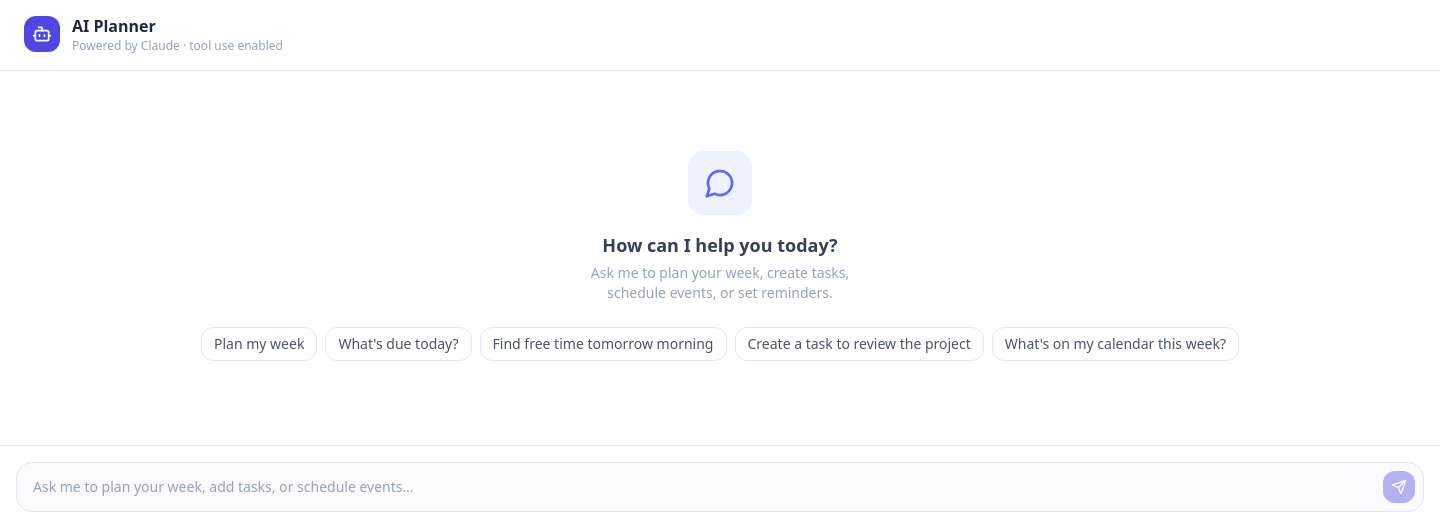
ChatPanel › shows confirmation buttons on confirmation_required event
Type "Delete my task" into the text box with placeholder "Ask me to plan your week, add tasks, or schedule events…" at [700, 487], box [25,471,1375,503]
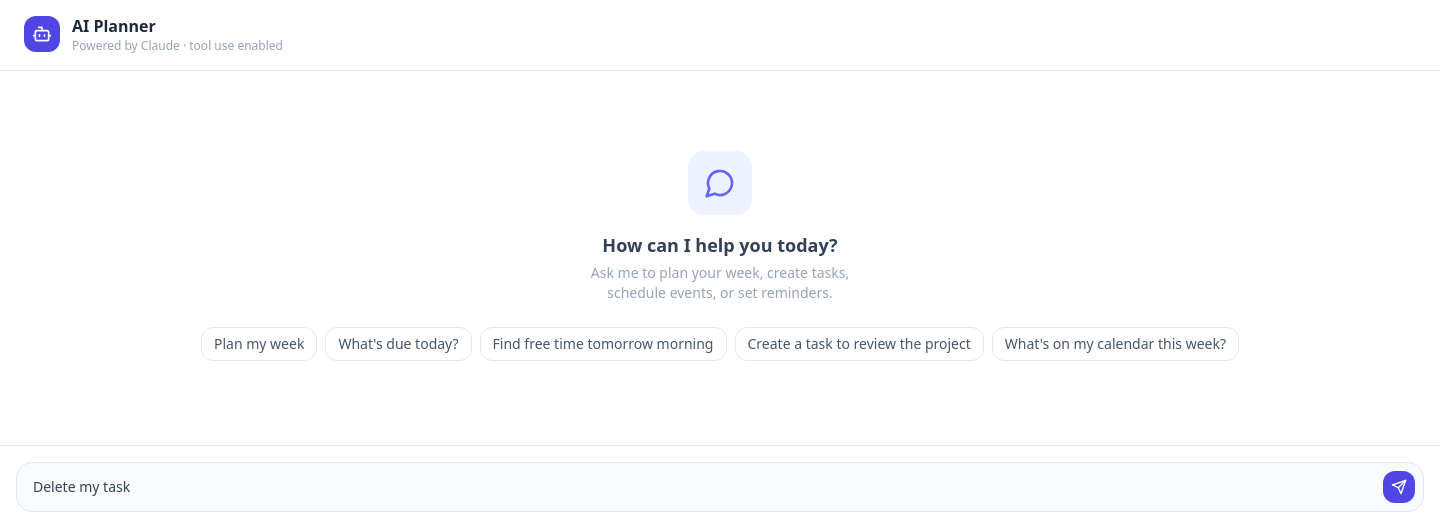
Press Enter in the text box with placeholder "Ask me to plan your week, add tasks, or schedule events…", box [25,471,1375,503]
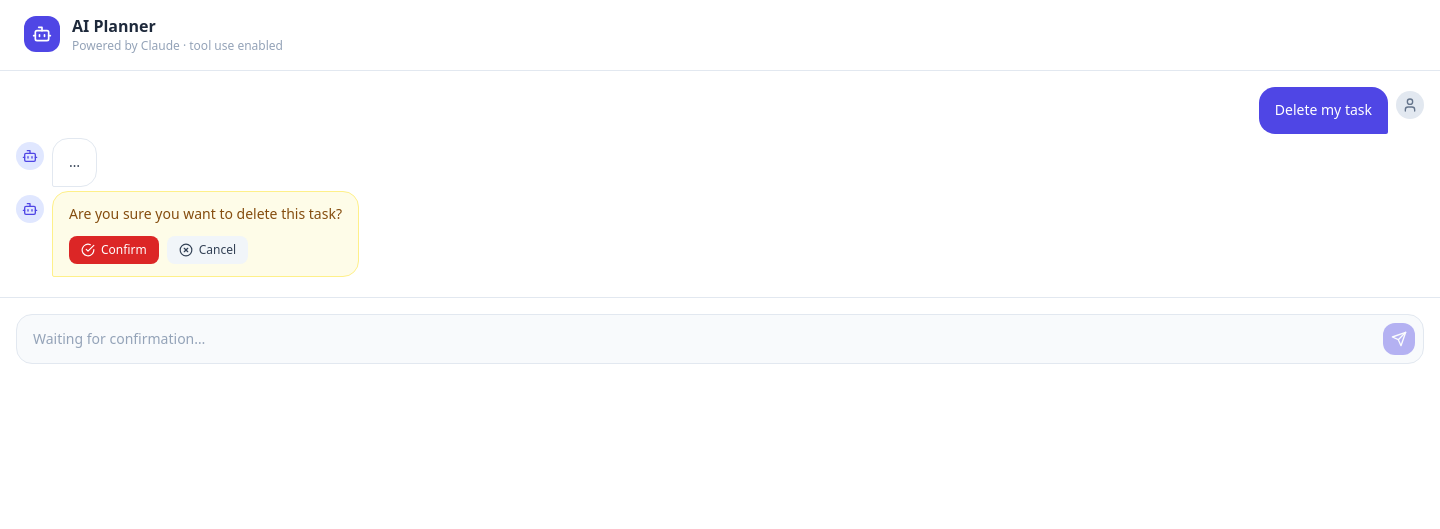
Expected: the text "Are you sure you want to delete this task?" is shown, [69,204,342,224]
Expected: the button "Confirm" is shown, [69,236,159,264]
Expected: the button "Cancel" is shown, [167,236,248,264]
